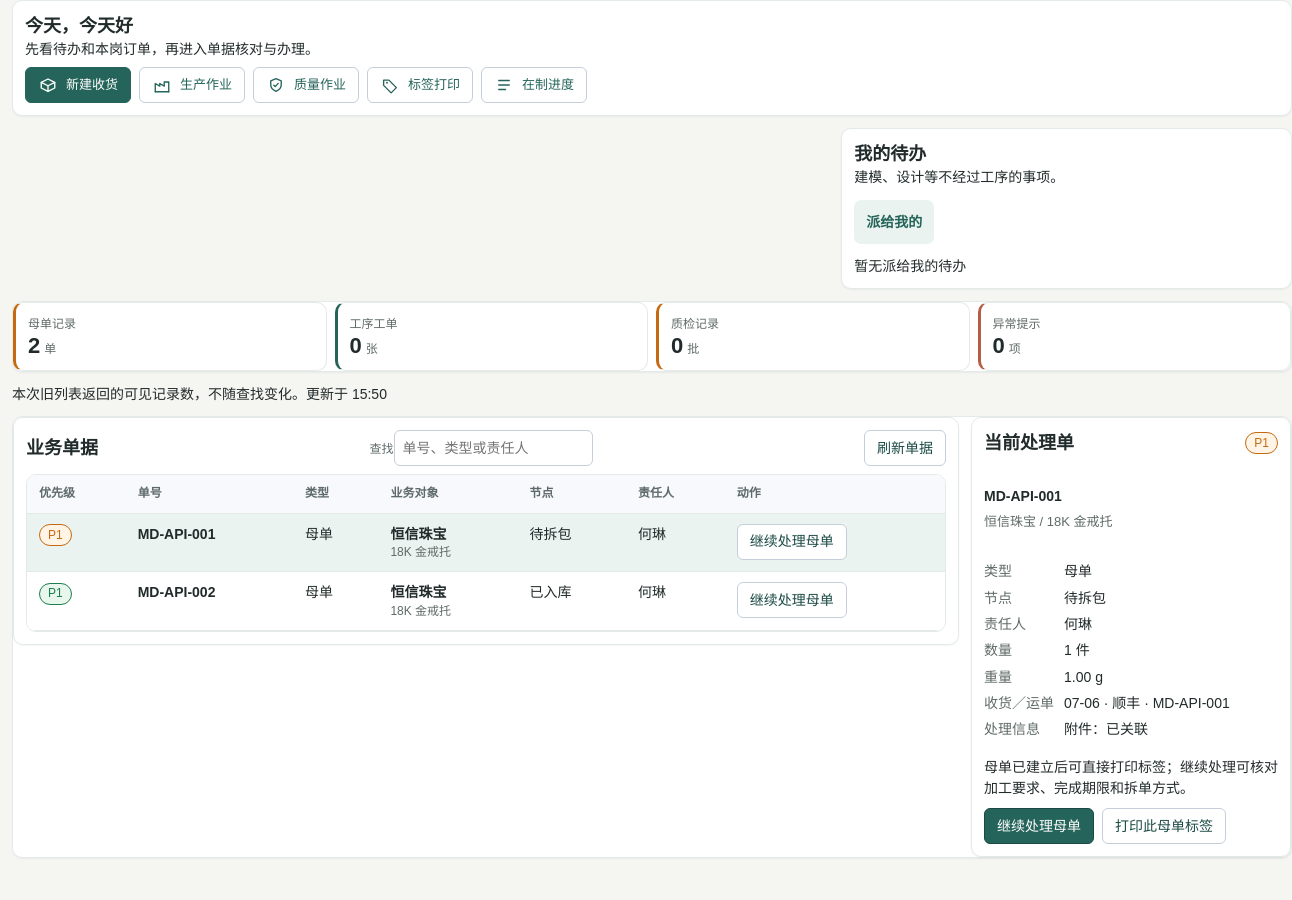
Test: M1Dashboard › keeps the selected row and the side panel on the same document
The width and height of the screenshot is (1292, 900).
Expected: the text "MD-API-001" below "当前处理单" is shown, [984, 488, 1062, 504]
Click the row "P1 MD-API-002 母单 恒信珠宝 18K 金戒托 已入库 何琳 继续处理母单".
click(486, 601)  # box [27, 572, 945, 630]
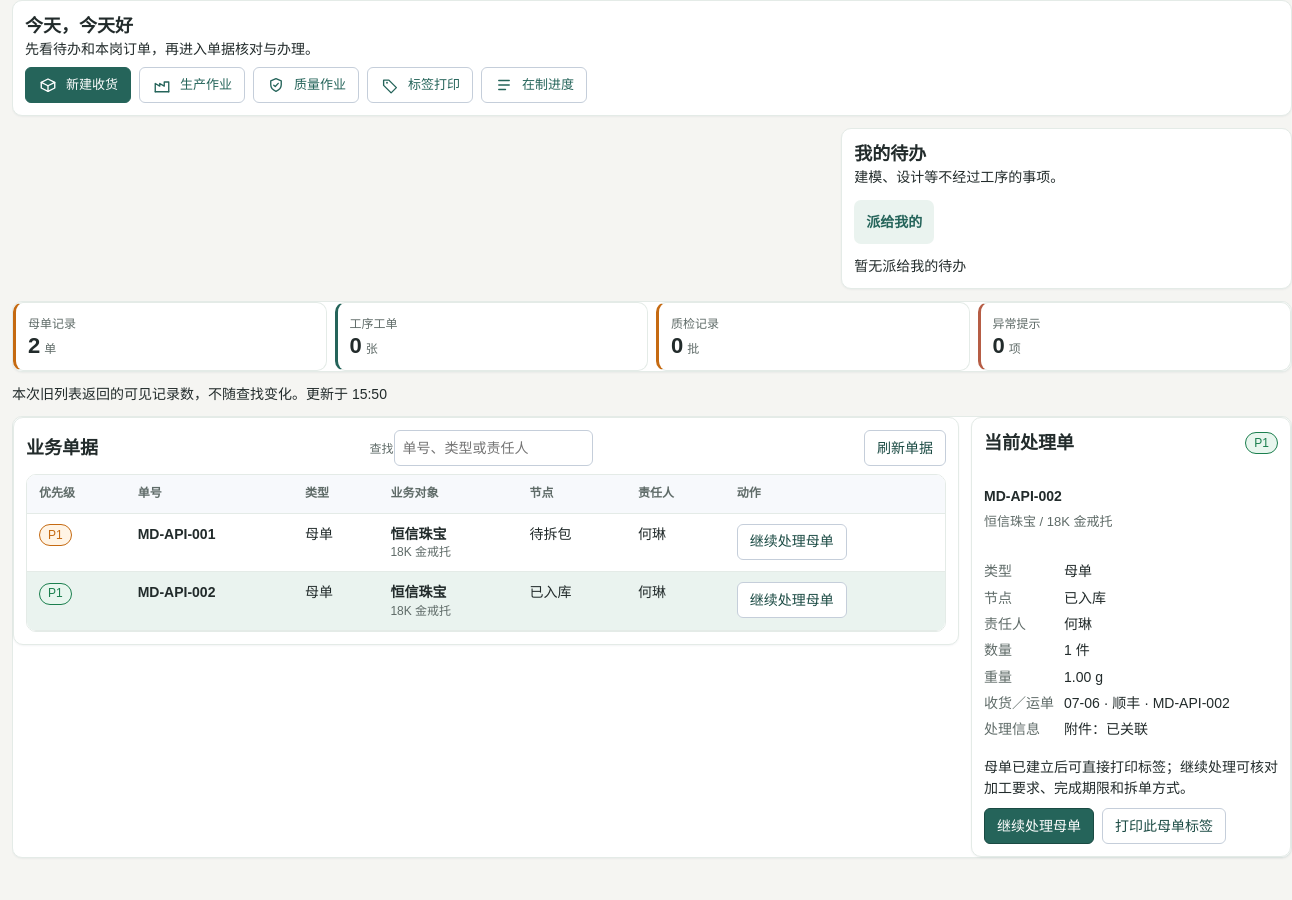
Expected: the element with class "active-record-panel" shows "继续处理母单", [984, 808, 1094, 844]
Result: the text "MD-API-002" below "当前处理单" is shown at [984, 488, 1062, 504]
